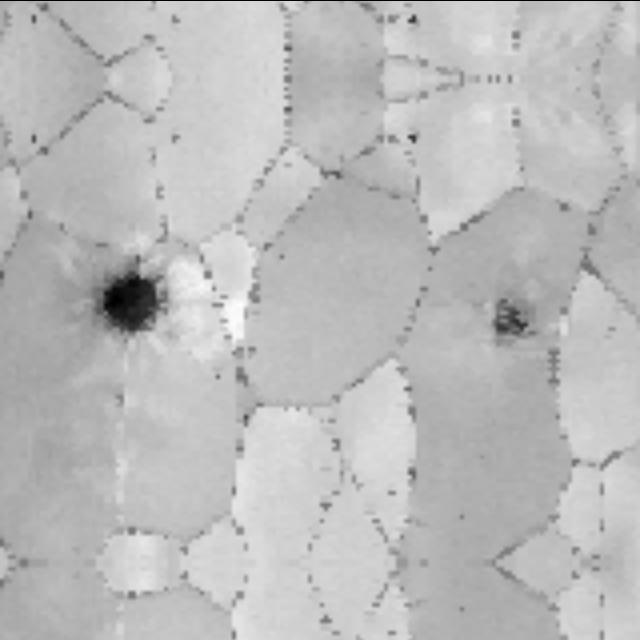good_void: (78, 245, 176, 348), (472, 283, 546, 363), (554, 198, 571, 217), (384, 483, 401, 500), (384, 624, 401, 640), (404, 129, 419, 143), (404, 13, 419, 27), (602, 322, 622, 332), (166, 131, 181, 144), (166, 12, 181, 25)
